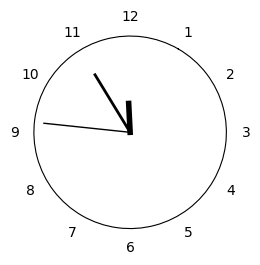12: (122, 8, 139, 23)
circle: (33, 36, 227, 229)
hours: (125, 100, 133, 135)
minutes: (93, 73, 128, 131)
seconds: (43, 122, 128, 132)
